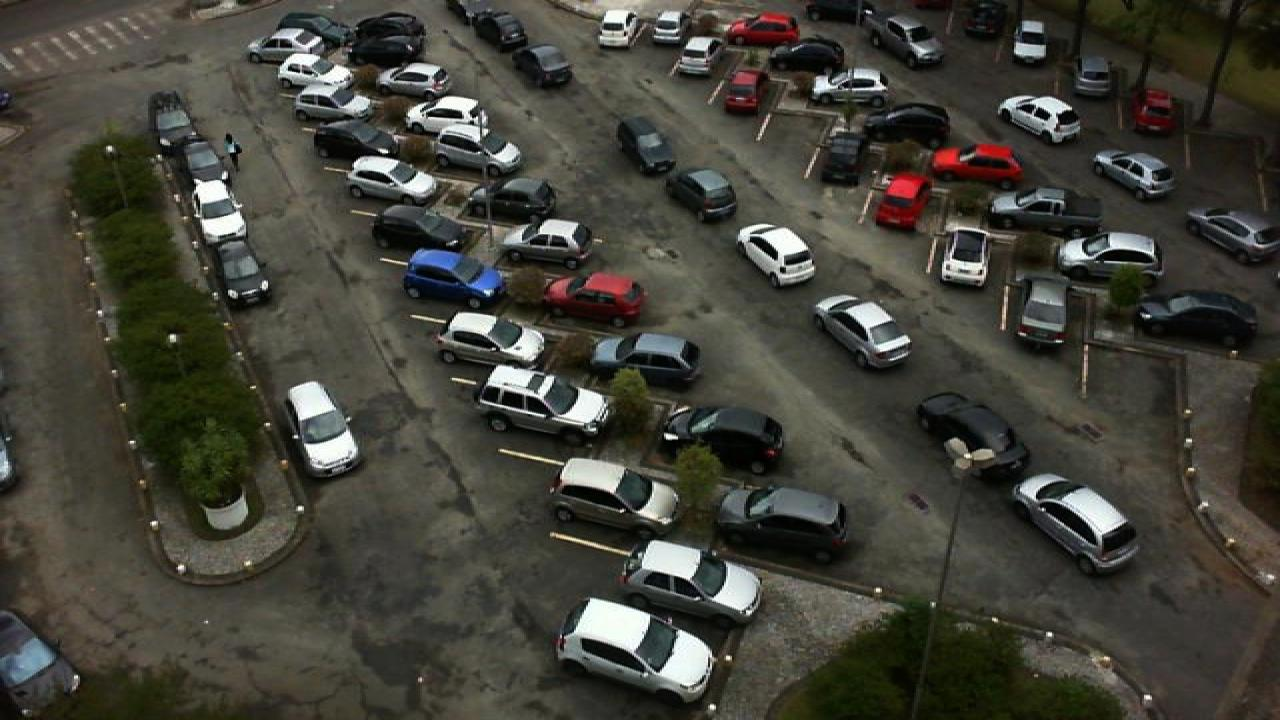Car: (552, 596, 716, 706), (1012, 472, 1144, 576), (616, 539, 766, 628), (470, 362, 612, 444), (712, 484, 852, 564), (548, 456, 682, 538), (916, 391, 1032, 482), (660, 404, 788, 476), (0, 610, 82, 720), (284, 380, 364, 478), (814, 294, 914, 370), (1136, 289, 1260, 348), (432, 310, 548, 373), (586, 331, 706, 388), (986, 184, 1104, 239), (400, 248, 504, 308), (542, 269, 648, 327), (1054, 229, 1164, 282), (734, 223, 818, 289), (1184, 207, 1280, 264), (860, 11, 946, 70), (430, 124, 522, 179), (498, 217, 594, 269), (368, 202, 464, 252), (344, 154, 438, 203), (1010, 276, 1072, 348), (928, 143, 1028, 187), (996, 93, 1084, 143), (464, 176, 558, 222), (1092, 150, 1176, 200), (310, 118, 400, 164), (664, 167, 740, 221), (192, 175, 250, 240), (218, 242, 274, 309), (290, 78, 374, 122), (616, 116, 678, 175), (808, 66, 892, 108), (406, 93, 488, 136), (366, 61, 454, 101), (872, 173, 930, 233), (938, 226, 990, 289), (866, 103, 954, 140), (244, 27, 328, 64), (816, 127, 868, 186), (338, 34, 424, 68), (148, 90, 200, 146), (274, 52, 354, 88), (168, 134, 226, 183), (768, 36, 846, 72), (514, 42, 574, 88), (720, 11, 800, 44), (670, 36, 722, 78), (478, 9, 532, 49), (1130, 86, 1176, 132), (1068, 55, 1114, 100), (718, 70, 764, 114), (1008, 18, 1050, 63), (594, 9, 640, 49), (650, 11, 690, 47)
